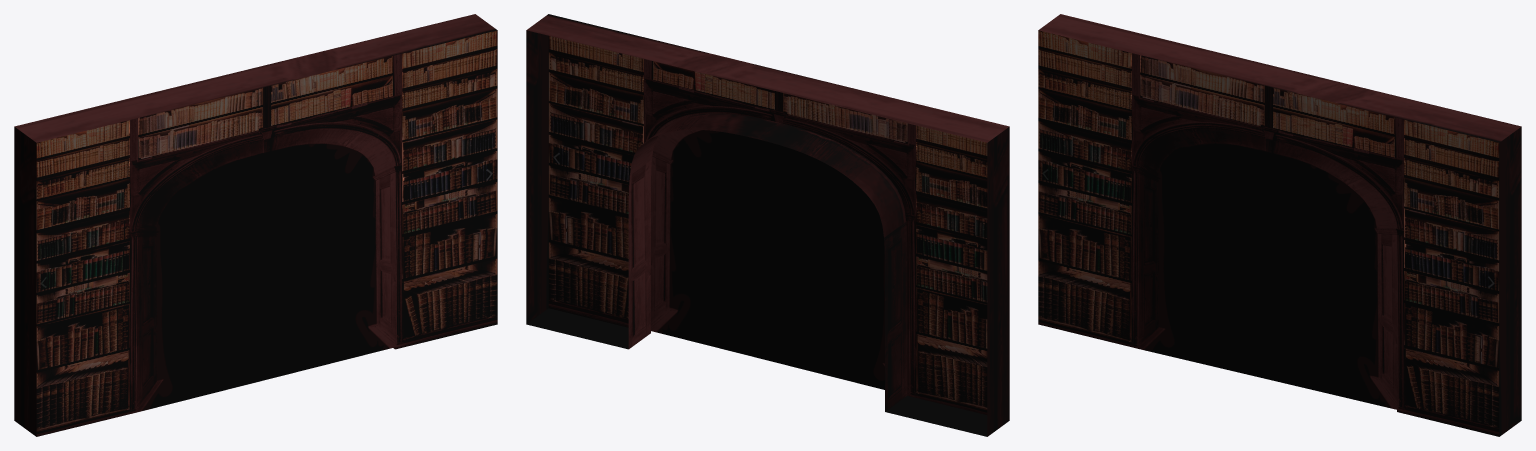
Rendered from library_arc.fbx.
3 renders of one model, left to right at view 1: azimuth 30°, elevation 25°; view 2: azimuth 150°, elevation 25°; view 3: azimuth 330°, elevation 25°, orthographic.
Parts seen in each view (by area): view 1: Cube; view 2: Cube; view 3: Cube.
Boxes of the visible parts, x1,y1,x2,y2 form: Cube: [14, 14, 497, 436]; Cube: [526, 14, 1009, 436]; Cube: [1038, 14, 1521, 436].
Size of the model in its own units: 208 by 127 by 17.36.
